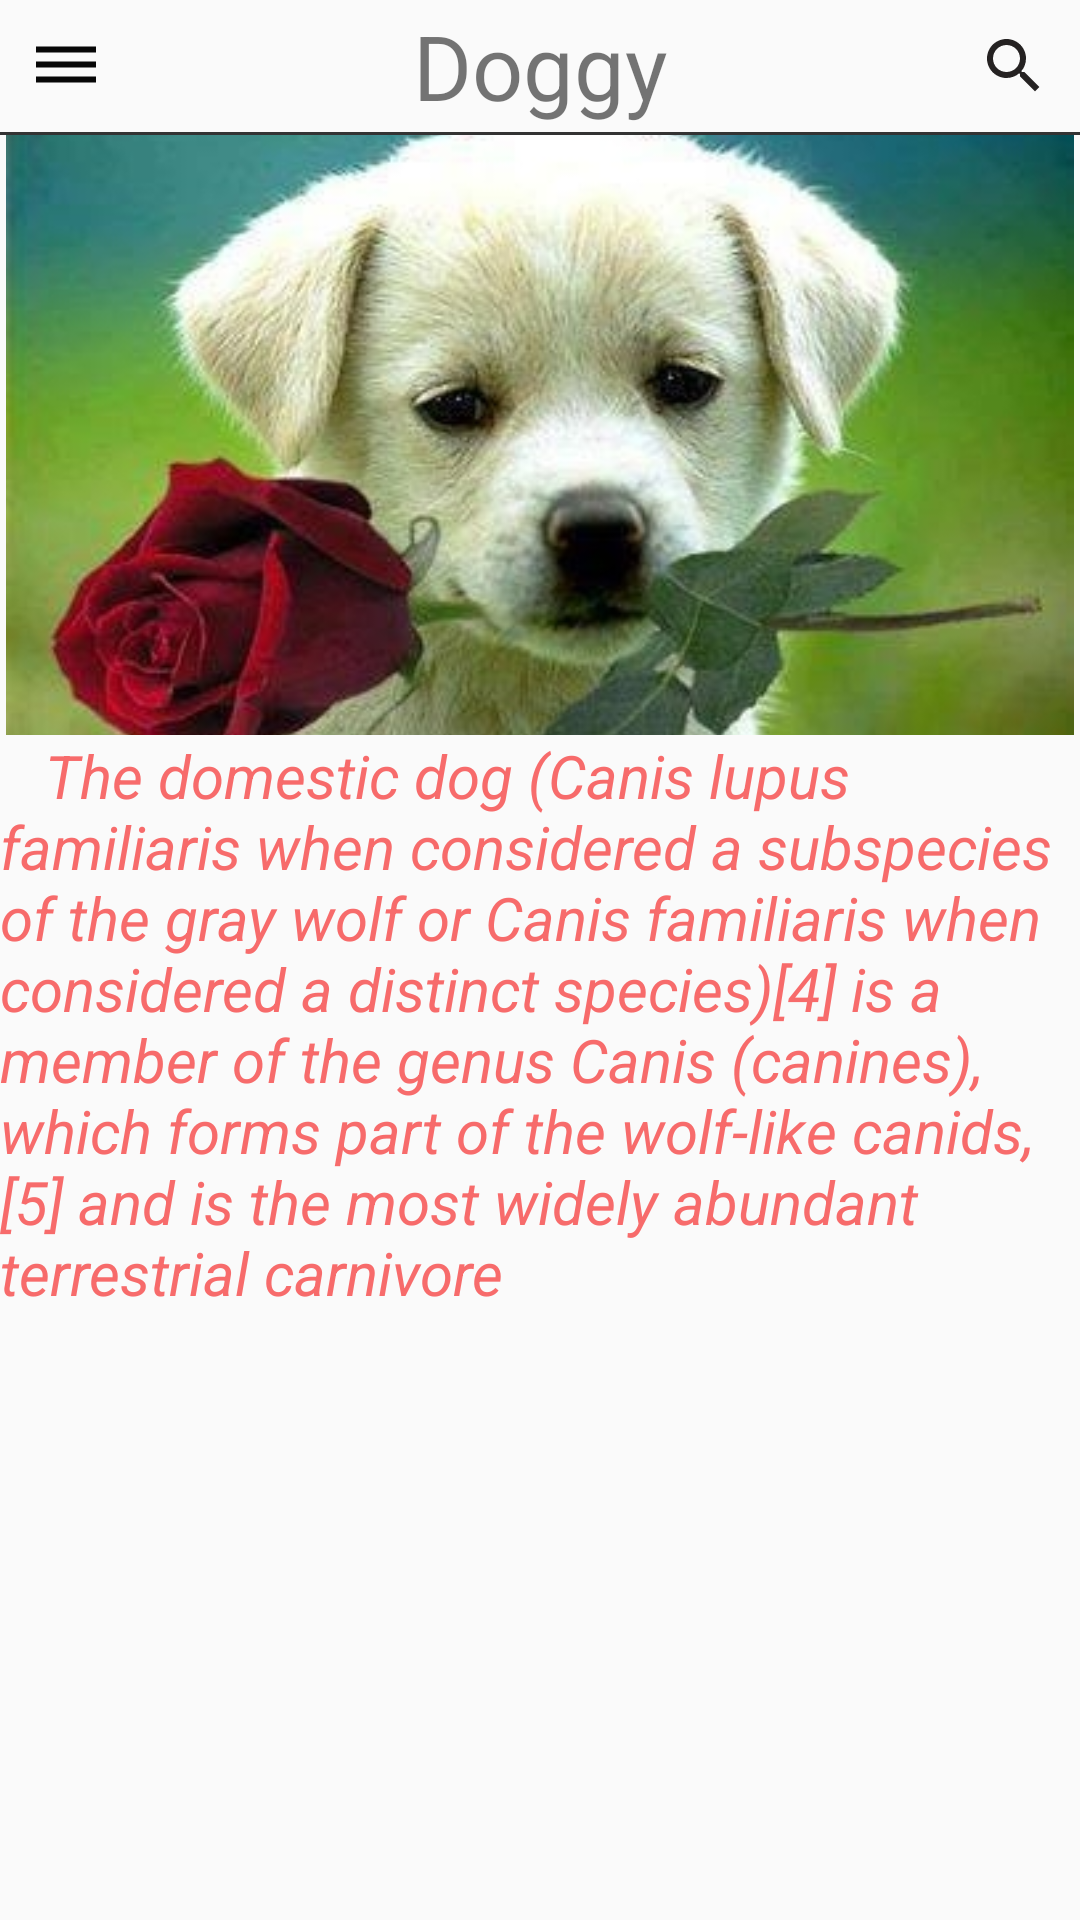

Locate icon controls on the screen. Image size 1080px x 1920px, boxes as {"x1": x1, "y1": y1, "x2": x2, "y2": y2}.
search: {"x1": 987, "y1": 39, "x2": 1039, "y2": 91}
